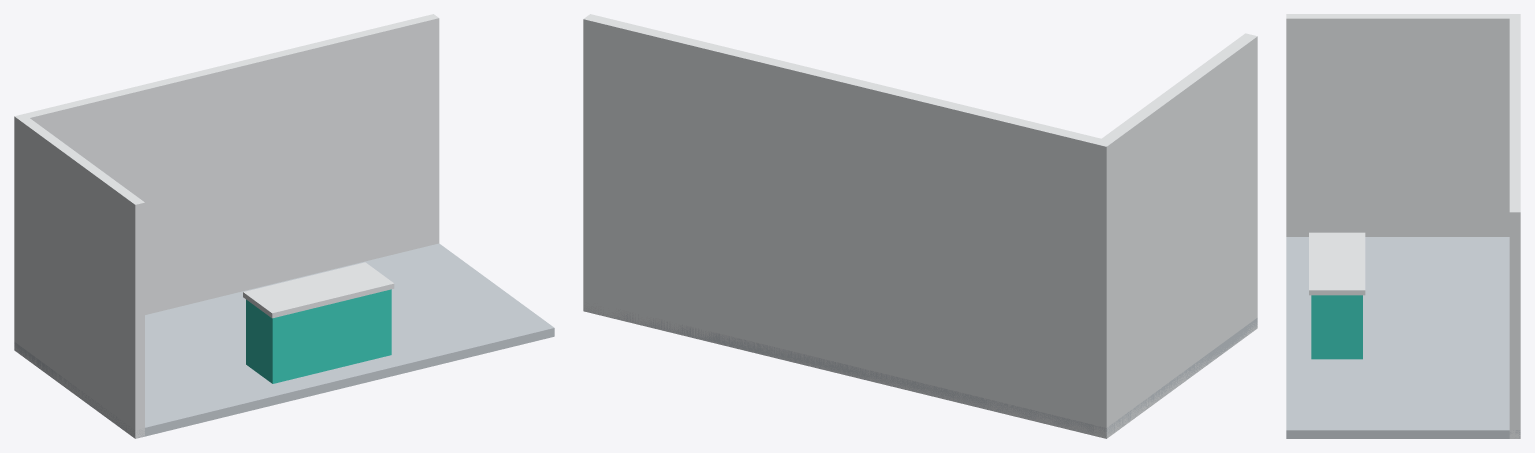
3 views of the same model, side by side, from view 1: azimuth 30°, elevation 25°; view 2: azimuth 150°, elevation 25°; view 3: azimuth 270°, elevation 25° (orthographic). The views are drawn at different scales.
Visible parts, largest first — view 1: Exhibition Booth Concept; view 2: Exhibition Booth Concept; view 3: Exhibition Booth Concept.
Part boxes in pixels (x1,y1,x2,y2): Exhibition Booth Concept: [14, 14, 554, 438]; Exhibition Booth Concept: [583, 14, 1257, 438]; Exhibition Booth Concept: [1286, 14, 1520, 438].
Size of the model in its own units: 6 by 3.2 by 3.
